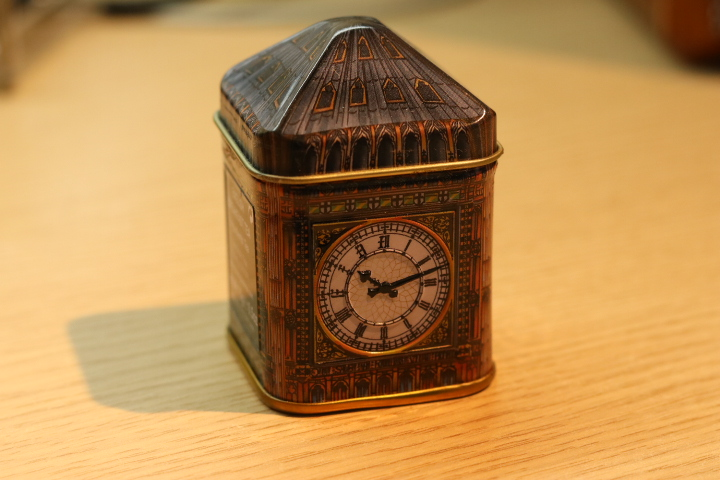Big Ben: (192, 10, 515, 428)
